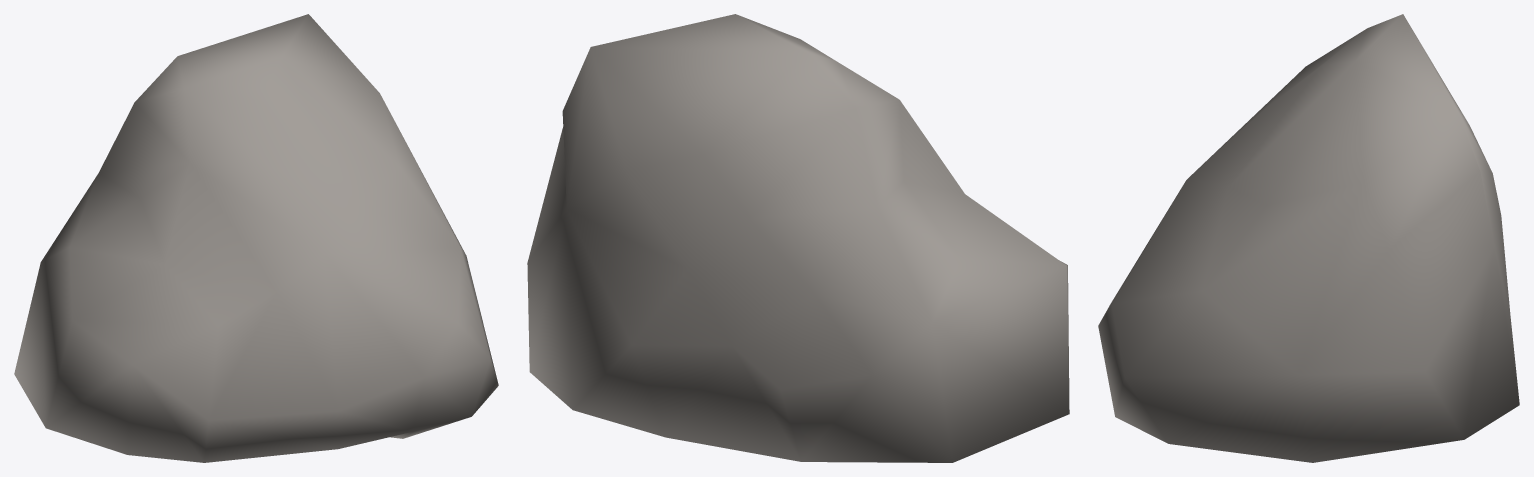
File: rpgpp_ag_rock_01.fbx
The picture shows the model from 3 angles, left to right: view 1: azimuth 30°, elevation 25°; view 2: azimuth 150°, elevation 25°; view 3: azimuth 270°, elevation 25°; orthographic projection. The views are drawn at different scales.
Visible parts, largest first — view 1: rpgpp_ag_rock_01; view 2: rpgpp_ag_rock_01; view 3: rpgpp_ag_rock_01.
Part boxes in pixels (x1,y1,x2,y2): rpgpp_ag_rock_01: (14, 14, 498, 462); rpgpp_ag_rock_01: (527, 14, 1069, 462); rpgpp_ag_rock_01: (1098, 14, 1519, 462).
Size of the model in its own units: 2.62 by 2.01 by 2.15.
